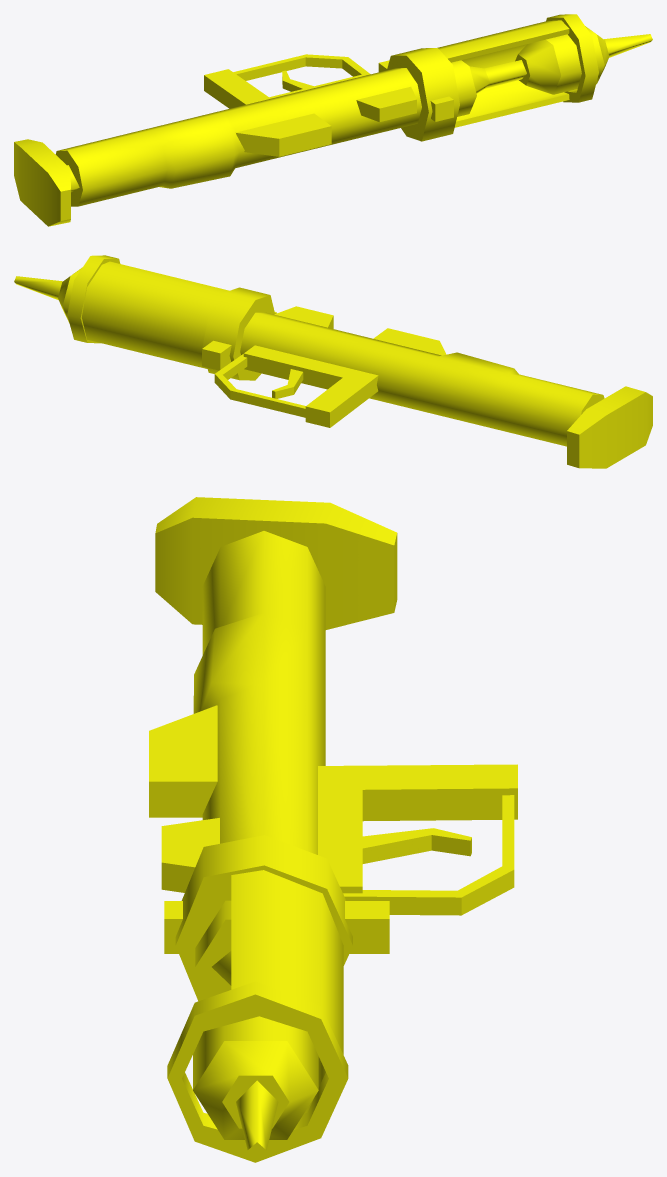
File: weapon_piat.glb
3 renders of one model, top to bottom at view 1: azimuth 30°, elevation 25°; view 2: azimuth 150°, elevation 25°; view 3: azimuth 270°, elevation 25°, orthographic. The views are drawn at different scales.
Visible parts, largest first — view 1: weapon_piat, weapon_piat_projectile; view 2: weapon_piat, weapon_piat_projectile; view 3: weapon_piat, weapon_piat_projectile.
Boxes of the visible parts, x1,y1,x2,y2 form: weapon_piat: (14,14,598,226); weapon_piat_projectile: (451,26,652,116); weapon_piat: (67,255,652,468); weapon_piat_projectile: (14,267,82,322); weapon_piat: (149,497,517,1162); weapon_piat_projectile: (193,900,318,1158).
Size of the model in its own units: 2.39 by 0.3136 by 0.6226.
1 material, 1 textured.
